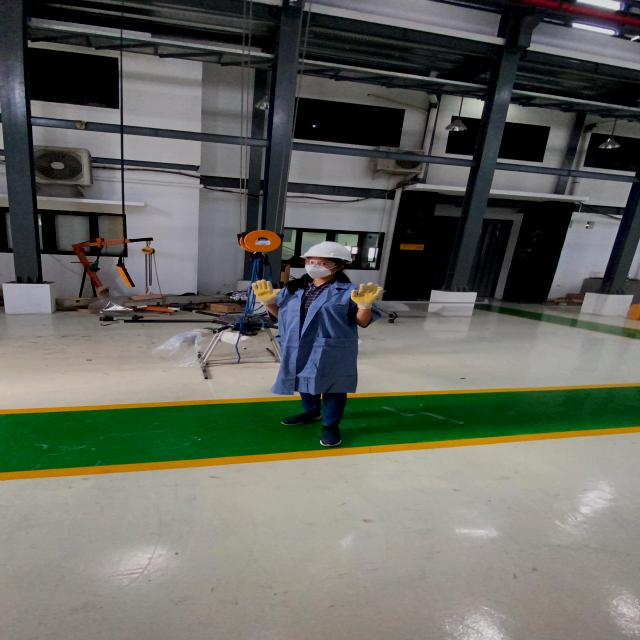face_mask: (304, 258, 338, 280)
glasses: (301, 258, 339, 268)
hand_glove: (348, 281, 387, 307), (249, 278, 283, 302)
head_helmet: (303, 239, 355, 262)
person: (248, 237, 387, 454)
shoes: (315, 421, 349, 448), (280, 410, 326, 428)
